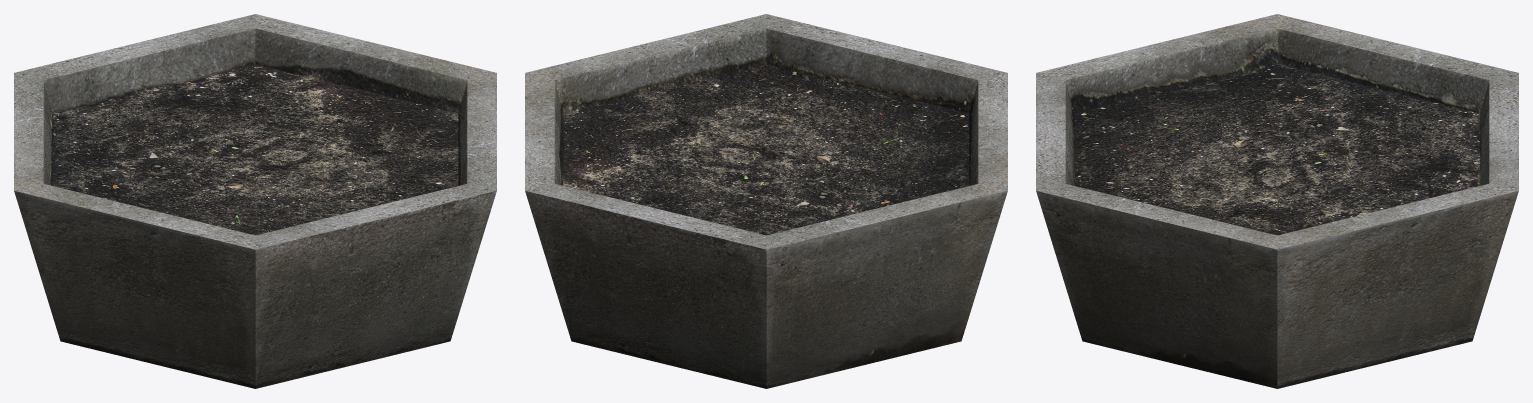
3 renders of one model, left to right at view 1: azimuth 30°, elevation 25°; view 2: azimuth 150°, elevation 25°; view 3: azimuth 270°, elevation 25°, orthographic.
Visible parts, largest first — view 1: flowerpot1_flowerpot1_0; view 2: flowerpot1_flowerpot1_0; view 3: flowerpot1_flowerpot1_0.
Part boxes in pixels (bbox=[...]): flowerpot1_flowerpot1_0: bbox=[14, 14, 496, 388]; flowerpot1_flowerpot1_0: bbox=[525, 14, 1007, 388]; flowerpot1_flowerpot1_0: bbox=[1036, 14, 1518, 388].
Size of the model in its own units: 128 by 40.91 by 111.
Materials: 1 (1 with a texture image).
